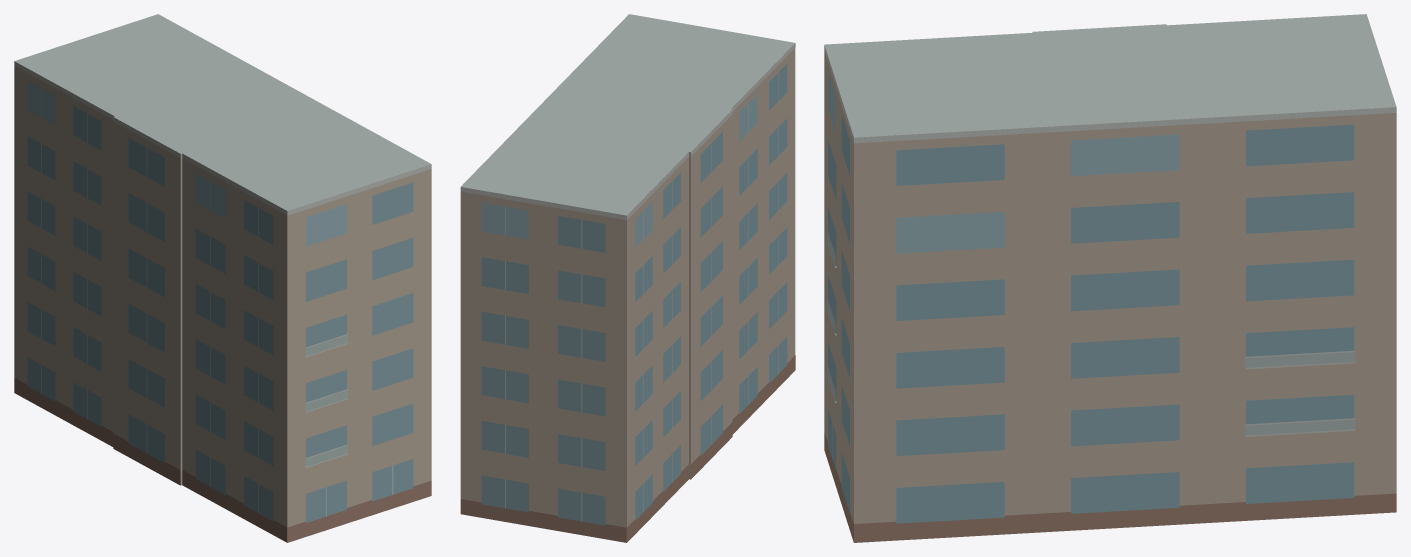
Rendered from survey-upis-32741438.glb.
3 views of the same model, side by side, from view 1: azimuth 30°, elevation 25°; view 2: azimuth 150°, elevation 25°; view 3: azimuth 270°, elevation 25° (orthographic). The views are drawn at different scales.
Parts seen in each view (by area): view 1: survey-upis-32741438.tmp; view 2: survey-upis-32741438.tmp; view 3: survey-upis-32741438.tmp.
Part boxes in pixels (<box>): survey-upis-32741438.tmp: <box>14,14,431,542</box>; survey-upis-32741438.tmp: <box>460,14,795,542</box>; survey-upis-32741438.tmp: <box>824,14,1396,542</box>.
Size of the model in its own units: 11.34 by 17.3 by 22.16.
